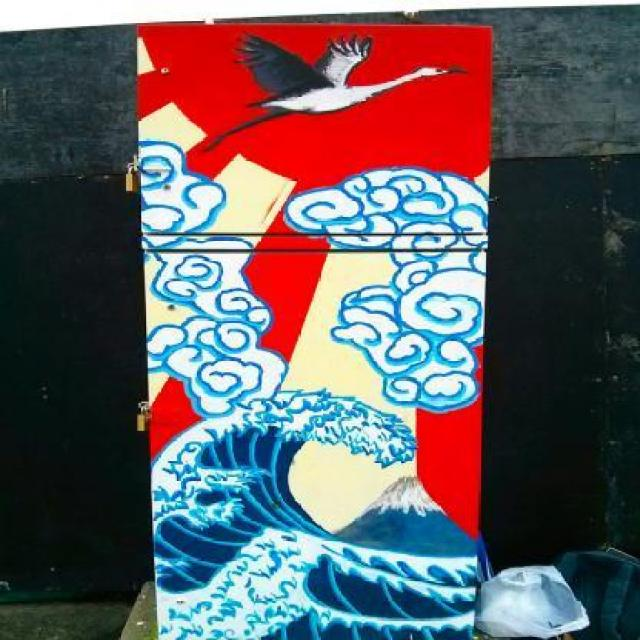plastic bag: (472, 564, 592, 638)
